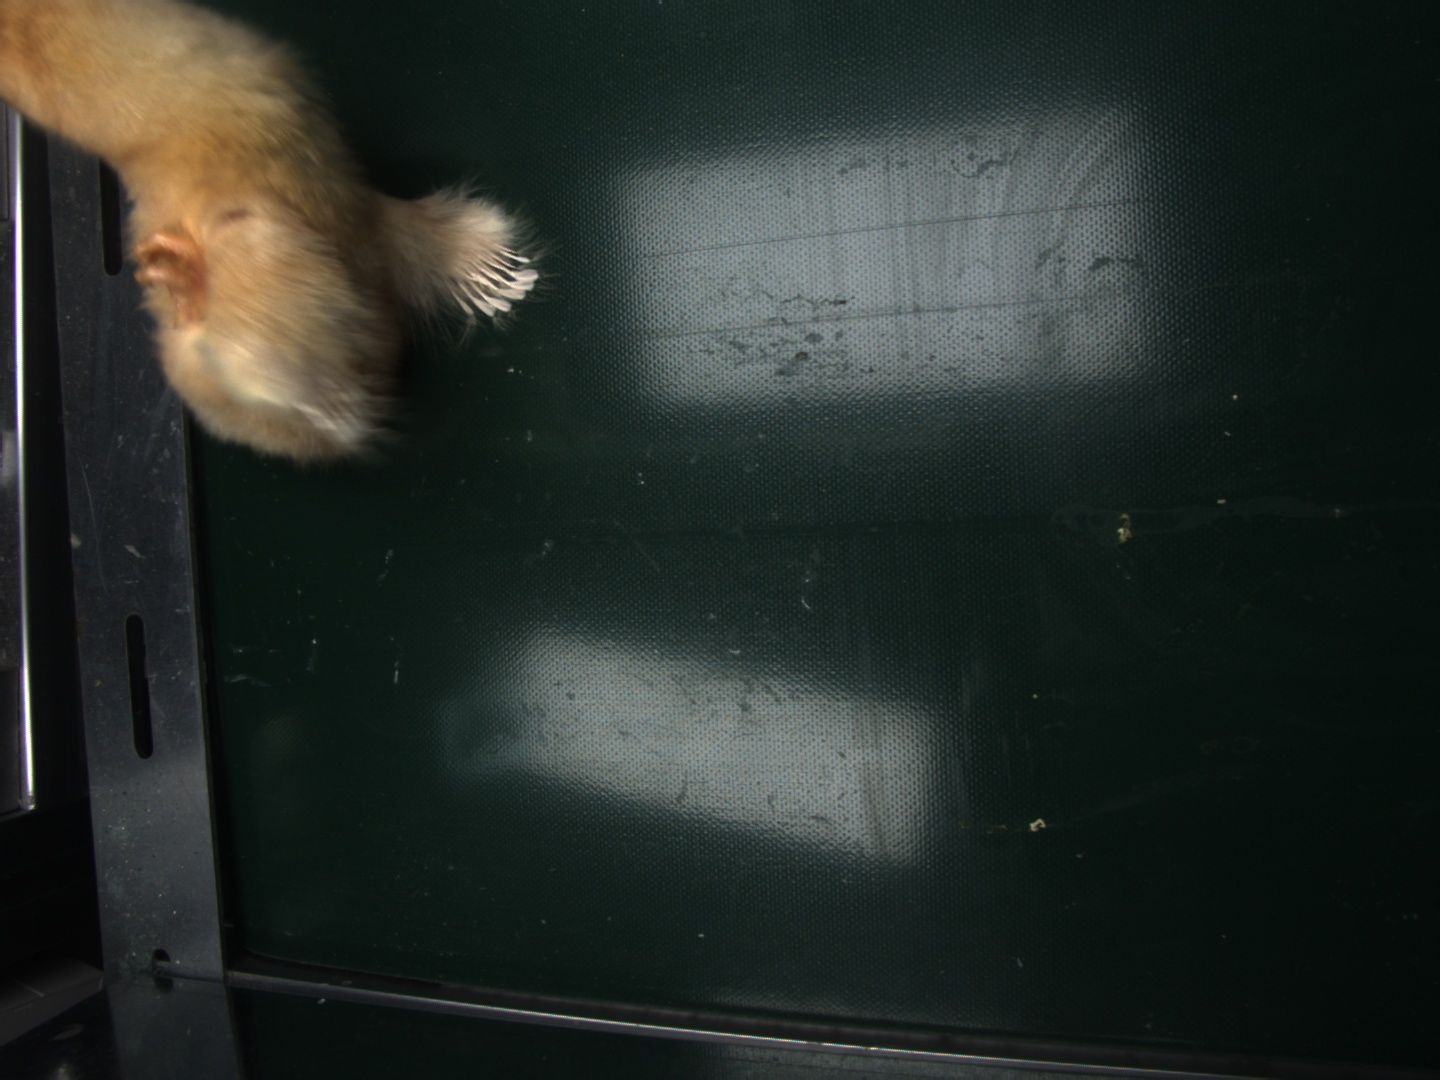female: (456, 242, 537, 318)
